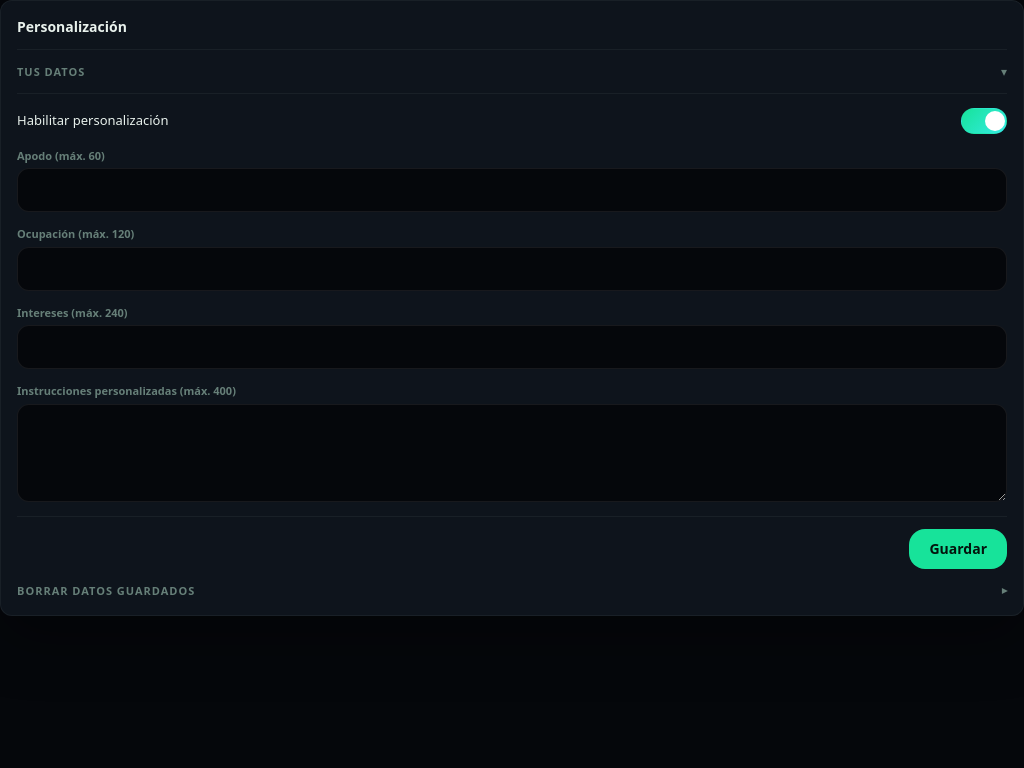
Test: PersonalizationCard Guardar (PUT /api/personalization) › surfaces a 422 validation error from the backend honestly
The image size is (1024, 768).
Click the button "Guardar": (958, 548) [910,528,1007,568]
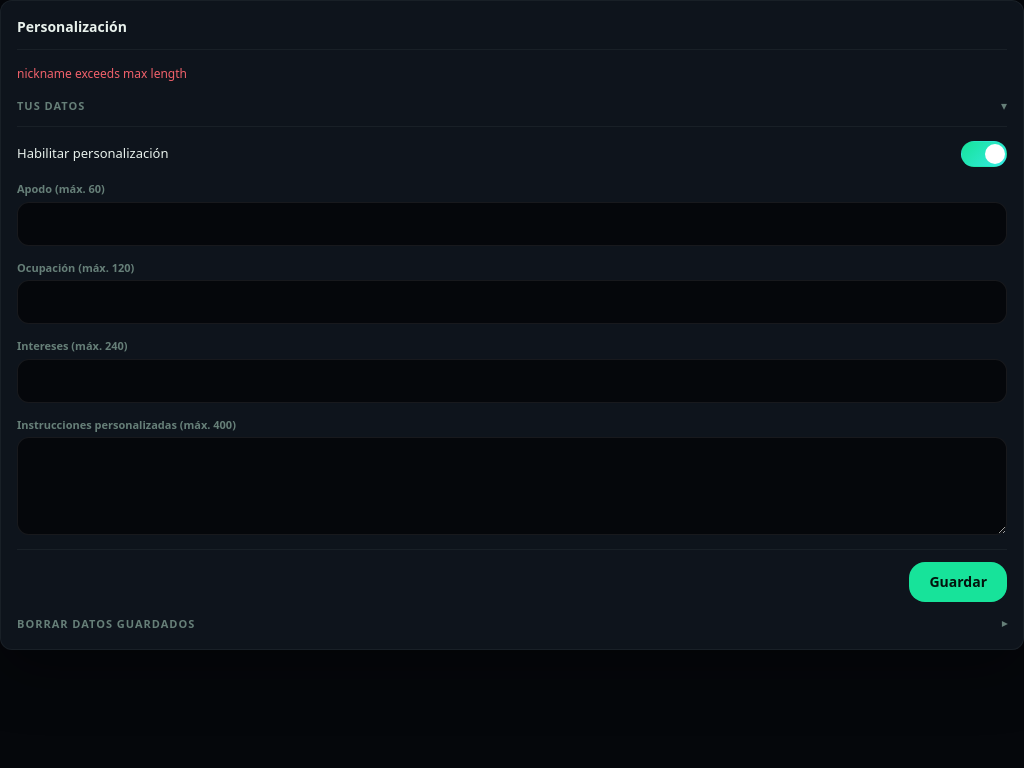
Result: the message reads "nickname exceeds max length" at [17,65,187,82]
